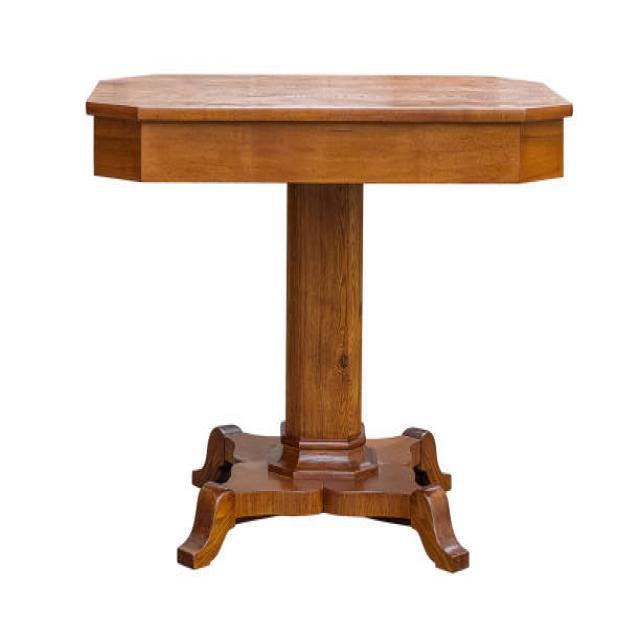table: (84, 70, 574, 572)
